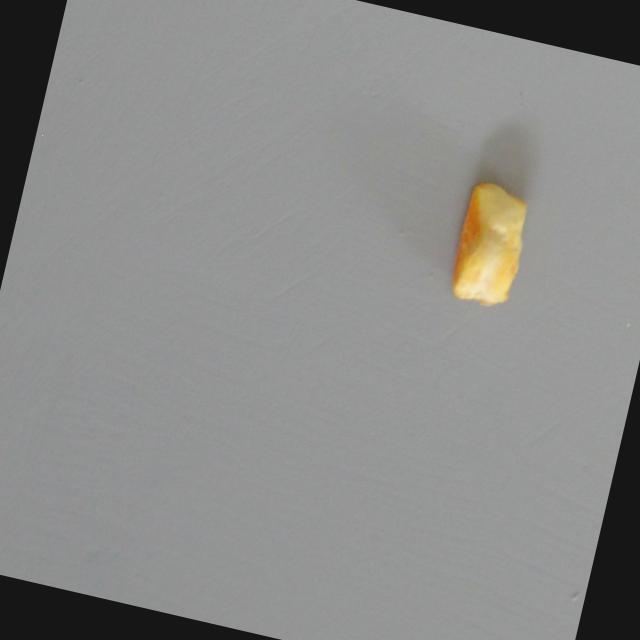pelicula: (437, 172, 547, 320)
